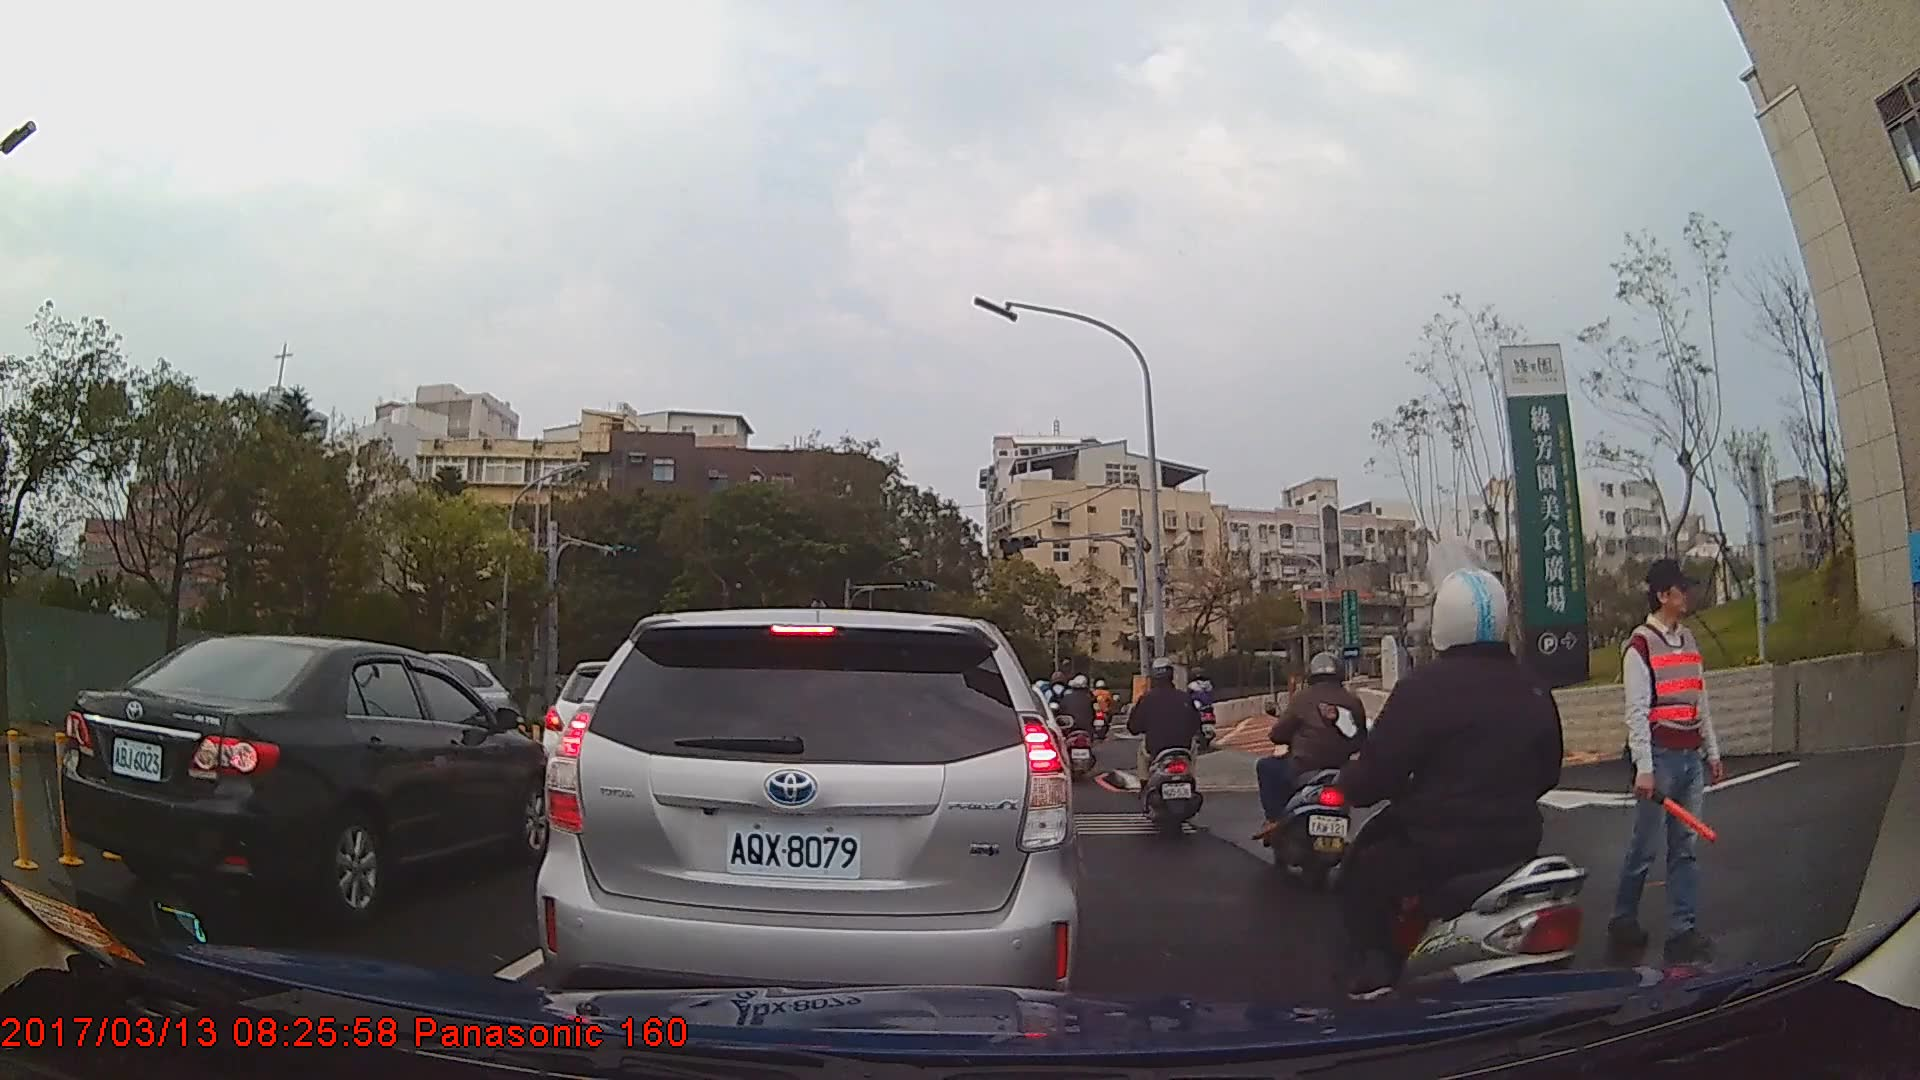pedestrian: (1623, 554, 1719, 953)
rider: (1332, 565, 1586, 1044), (1258, 648, 1374, 891), (1129, 651, 1205, 841), (1063, 675, 1100, 783), (1183, 666, 1218, 752), (1085, 676, 1117, 741)
vehicle: (535, 606, 1078, 1028), (63, 632, 553, 914)
